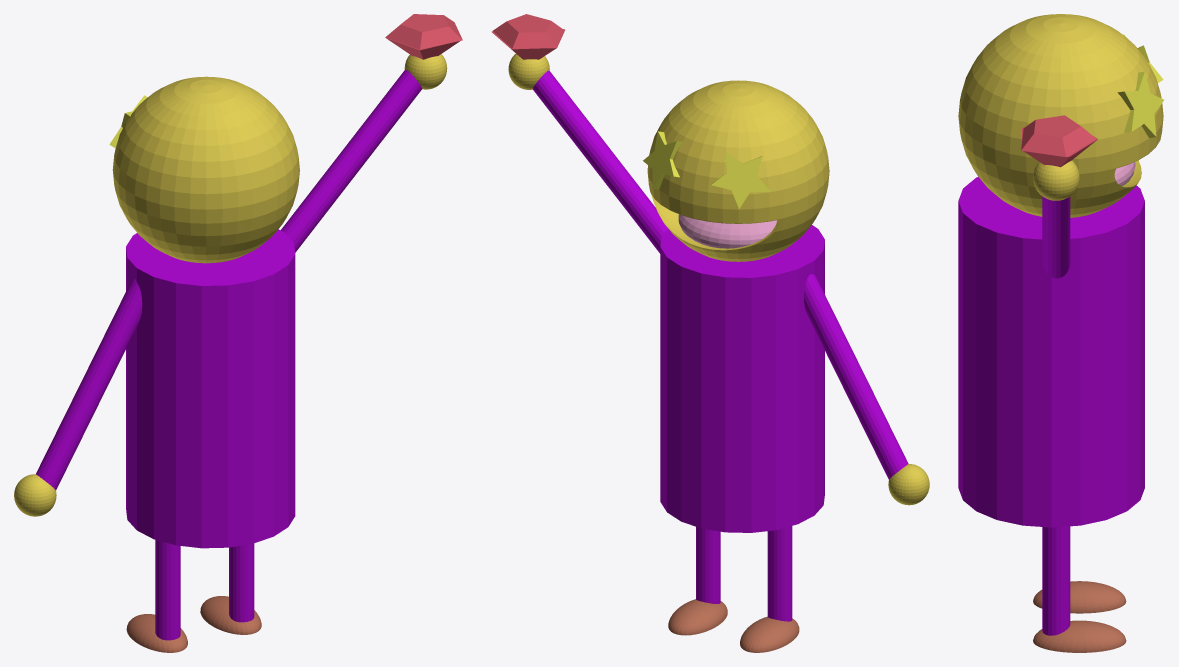
Rendered from StatueofLuck.glb.
The picture shows the model from 3 angles, left to right: view 1: azimuth 30°, elevation 25°; view 2: azimuth 150°, elevation 25°; view 3: azimuth 270°, elevation 25°; orthographic projection. The views are drawn at different scales.
Parts seen in each view (by area): view 1: Mesh_Mesh_head_geo.001_lambert2SG.001; view 2: Mesh_Mesh_head_geo.001_lambert2SG.001; view 3: Mesh_Mesh_head_geo.001_lambert2SG.001.
Part boxes in pixels (x1,y1,x2,y2): Mesh_Mesh_head_geo.001_lambert2SG.001: [14, 14, 462, 652]; Mesh_Mesh_head_geo.001_lambert2SG.001: [491, 14, 929, 652]; Mesh_Mesh_head_geo.001_lambert2SG.001: [958, 14, 1164, 652].
Bounding box in the file's own units: 60 × 72.5 × 22.1.
